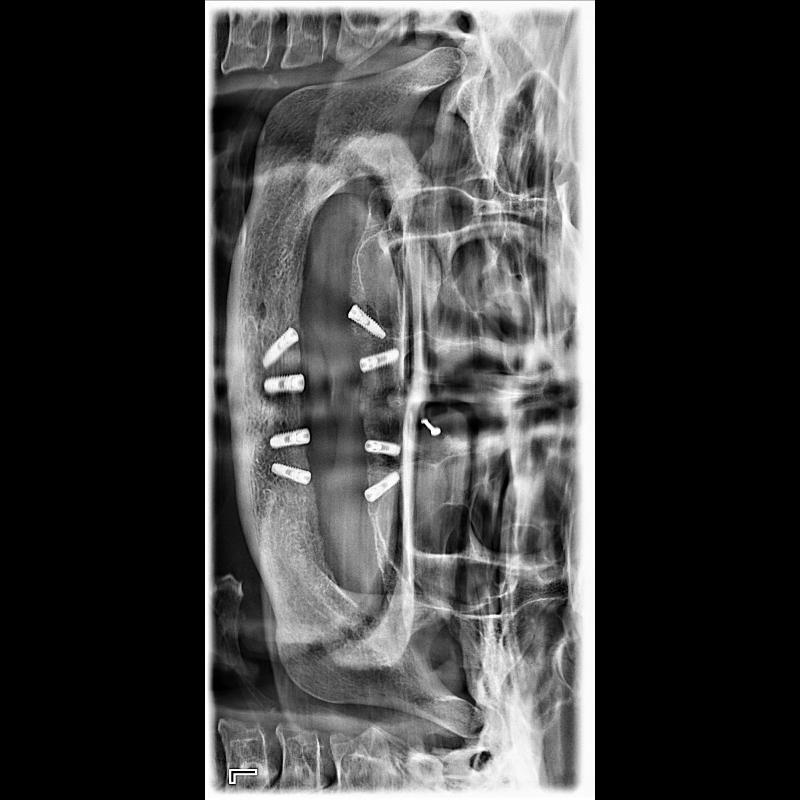osstem: (260, 324, 299, 366), (345, 302, 387, 340), (360, 470, 404, 499), (266, 461, 314, 485), (360, 346, 399, 372), (359, 435, 405, 457), (268, 428, 314, 450), (260, 376, 308, 394)
